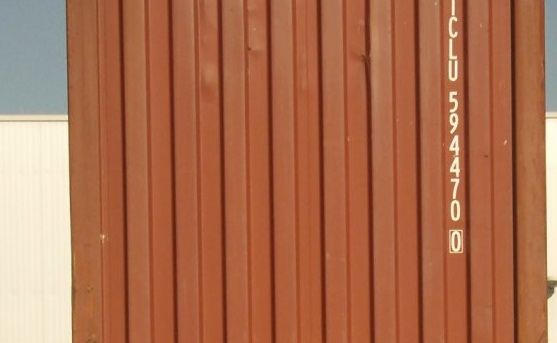container_no_door: (65, 1, 545, 343)
